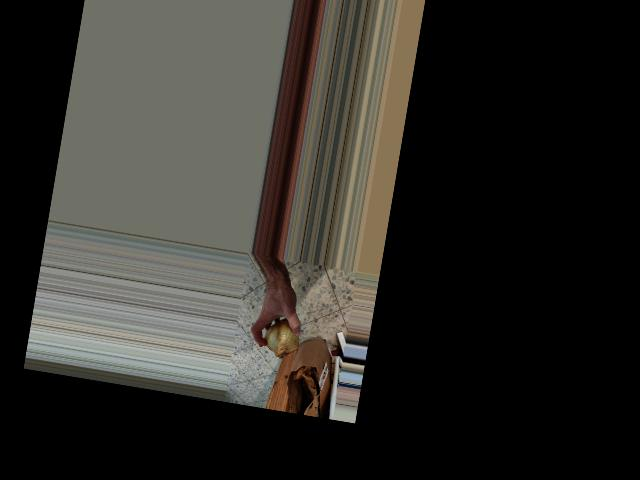onion: (259, 312, 304, 362)
